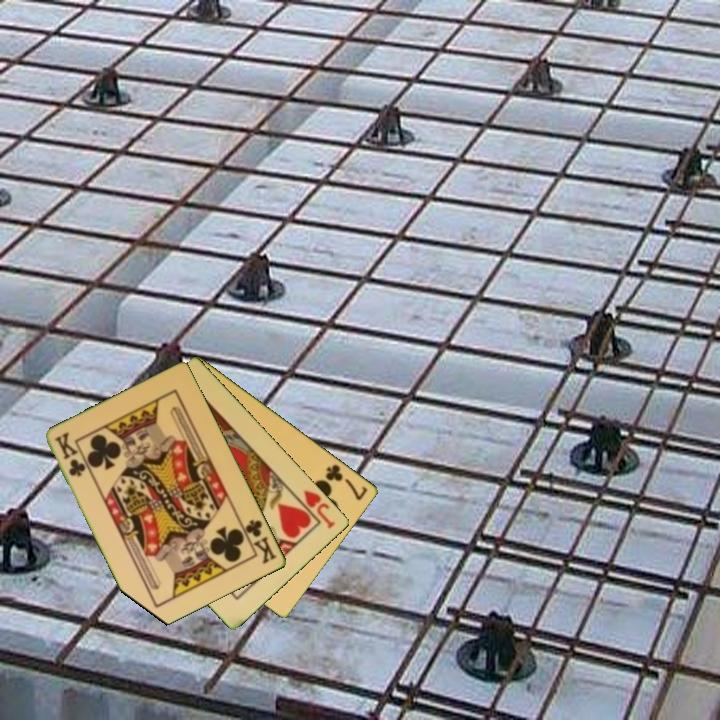7c: (322, 460, 371, 503)
Jh: (300, 486, 339, 532)
Kc: (238, 516, 280, 567), (52, 429, 89, 480)
